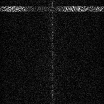wifi: (1, 5, 104, 11)
